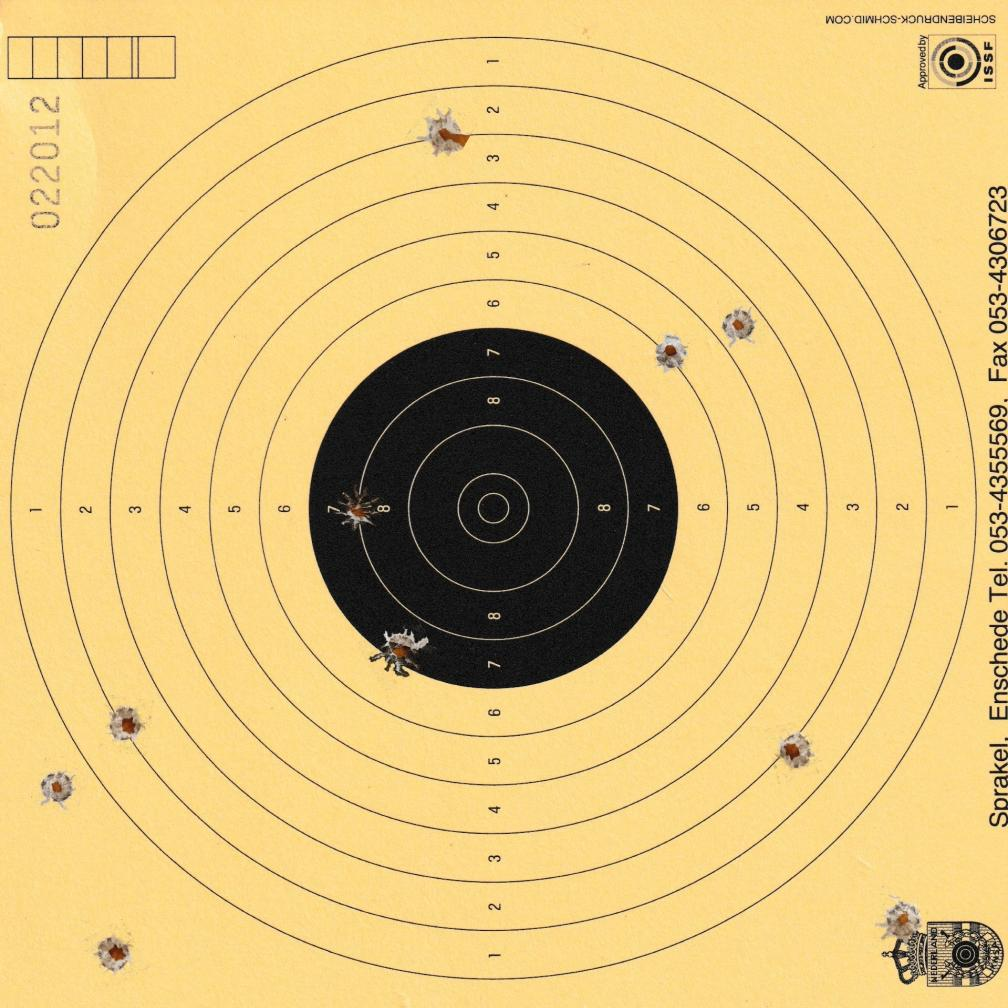0: (872, 896, 926, 944), (35, 768, 77, 810), (92, 933, 134, 975)
2: (104, 706, 144, 744)
3: (416, 107, 475, 158), (775, 730, 818, 772)
4: (720, 304, 758, 348)
6: (650, 332, 692, 375)
7: (369, 623, 435, 680)
8: (331, 482, 384, 533)
Target: (10, 33, 980, 984)
black_contour: (309, 328, 681, 689)
